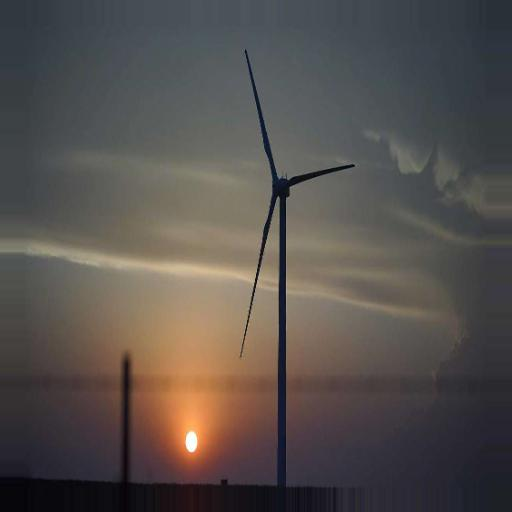wind turbine: (240, 48, 355, 479)
